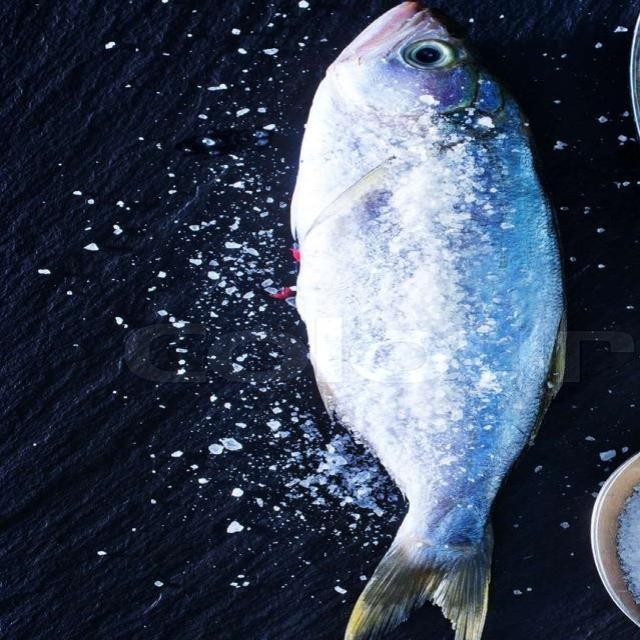fish: (289, 0, 564, 638)
